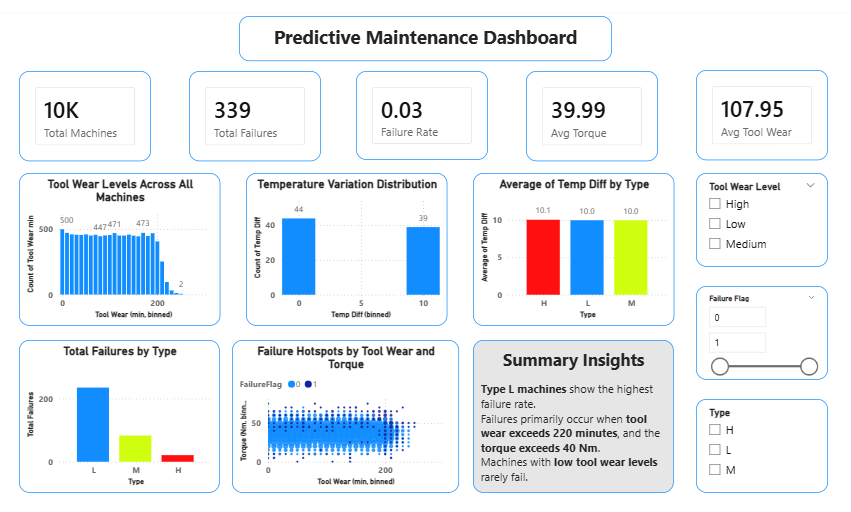

The page's visual inventory and layout, read from the dashboard file:
{"tool":"powerbi","page":{"name":"Page 1","canvas":[1280,720],"ordinal":0},"visuals":[{"type":"cardVisual","title":"Total Machines","fields":{"Data":["ai4i2020.TotalMachines"]},"box":[55,89.3,190,130],"z":0},{"type":"cardVisual","fields":{"Data":["ai4i2020.TotalFailures"]},"box":[300,89.3,190.1,130],"z":1000},{"type":"cardVisual","fields":{"Data":["ai4i2020.FailureRate"]},"box":[540,89.3,190.1,128],"z":2000},{"type":"cardVisual","fields":{"Data":["ai4i2020.AvgTorque"]},"box":[785,89.3,190,130],"z":3000},{"type":"cardVisual","fields":{"Data":["ai4i2020.AvgToolWear"]},"box":[1030,87.8,190.1,130],"z":4000},{"type":"clusteredColumnChart","fields":{"Category":["ai4i2020.Type"],"Y":["ai4i2020.TotalFailures"]},"box":[54.7,476.6,289.4,220.3],"z":5000},{"type":"slicer","fields":{"Values":["ai4i2020.Type"]},"box":[1029.6,561.6,190.1,135.4],"z":6000},{"type":"slicer","fields":{"Values":["ai4i2020.FailureFlag"]},"box":[1029.6,399,190.1,135],"z":7000},{"type":"slicer","fields":{"Values":["ai4i2020.ToolWearLevel"]},"box":[1029.6,236.2,190.1,135],"z":8000},{"type":"textbox","box":[371.5,10.1,537.1,64.8],"z":9000},{"type":"clusteredColumnChart","title":"Temperature Variation Distribution","fields":{"Category":["ai4i2020.TempDiff (bins)"],"Y":["Count(ai4i2020.TempDiff)"]},"box":[381,236.2,290,220.3],"z":10000},{"type":"clusteredColumnChart","title":"Average of Temp Diff by Type","fields":{"Category":["ai4i2020.Type"],"Y":["Avg(ai4i2020.TempDiff)"]},"box":[708,236.2,290,220.3],"z":11000},{"type":"clusteredColumnChart","title":"Tool Wear Levels Across All Machines","fields":{"Category":["ai4i2020.ToolWear_min (bins)"],"Y":["CountNonNull(ai4i2020.ToolWear_min)"]},"box":[54.7,236.2,290,220],"z":12000},{"type":"scatterChart","title":"Failure Hotspots by Tool Wear and Torque","fields":{"X":["ai4i2020.ToolWear_min (bins)"],"Y":["ai4i2020.Torque_Nm (bins)"],"Size":["CountNonNull(ai4i2020.UID)"],"Series":["ai4i2020.FailureFlag"]},"box":[361.4,476.6,326.9,220.3],"z":13000},{"type":"textbox","box":[708.5,476.6,289.4,220.3],"z":14000}]}

Visuals, with their boxes on the page's 1280x720 design canvas (x1, y1, x2, y2). These are canvas units, not pixel positions in the 851x512 screenshot, which may show the page scaled, cropped or inside an application window:
"Total Machines" cardVisual: (x1=55, y1=89, x2=245, y2=219)
cardVisual - ai4i2020.TotalFailures: (x1=300, y1=89, x2=490, y2=219)
cardVisual - ai4i2020.FailureRate: (x1=540, y1=89, x2=730, y2=217)
cardVisual - ai4i2020.AvgTorque: (x1=785, y1=89, x2=975, y2=219)
cardVisual - ai4i2020.AvgToolWear: (x1=1030, y1=88, x2=1220, y2=218)
clusteredColumnChart - ai4i2020.Type x ai4i2020.TotalFailures: (x1=55, y1=477, x2=344, y2=697)
slicer - ai4i2020.Type: (x1=1030, y1=562, x2=1220, y2=697)
slicer - ai4i2020.FailureFlag: (x1=1030, y1=399, x2=1220, y2=534)
slicer - ai4i2020.ToolWearLevel: (x1=1030, y1=236, x2=1220, y2=371)
textbox: (x1=372, y1=10, x2=909, y2=75)
"Temperature Variation Distribution" clusteredColumnChart: (x1=381, y1=236, x2=671, y2=456)
"Average of Temp Diff by Type" clusteredColumnChart: (x1=708, y1=236, x2=998, y2=456)
"Tool Wear Levels Across All Machines" clusteredColumnChart: (x1=55, y1=236, x2=345, y2=456)
"Failure Hotspots by Tool Wear and Torque" scatterChart: (x1=361, y1=477, x2=688, y2=697)
textbox: (x1=708, y1=477, x2=998, y2=697)
